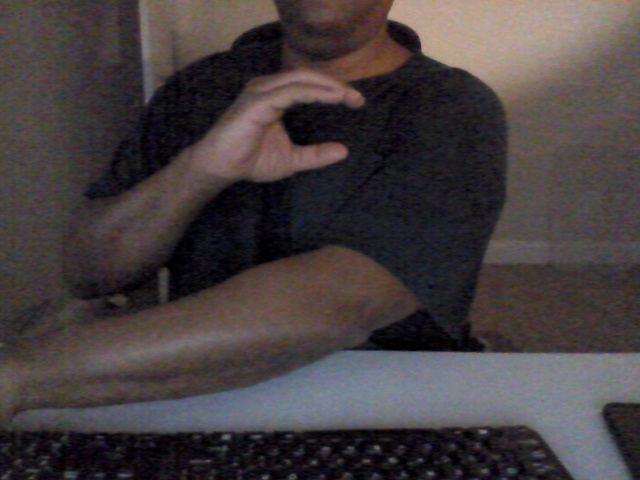police: (201, 66, 368, 188)
